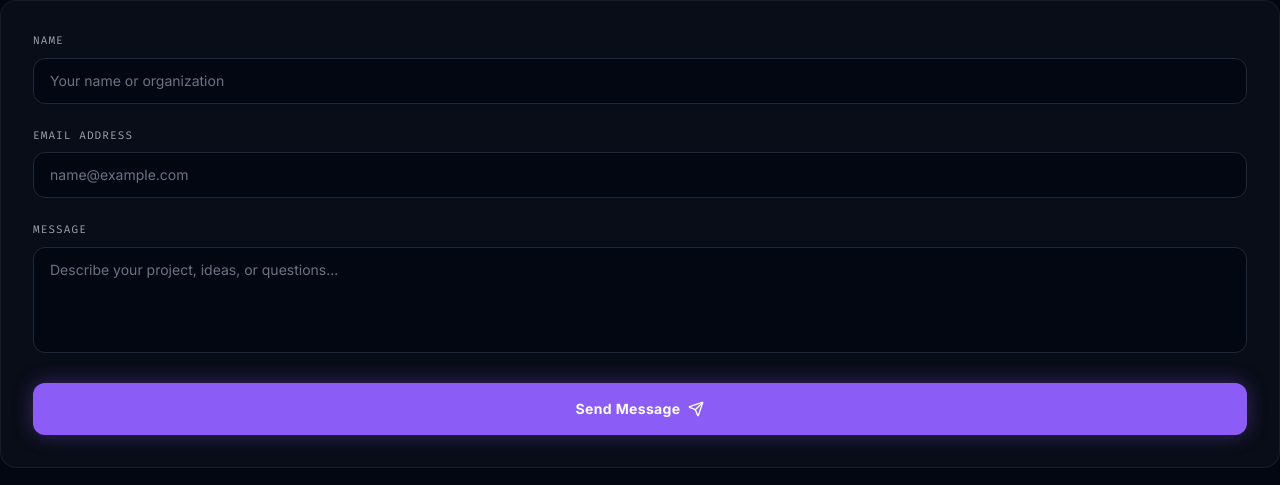
Test: ContactForm component › submits the form successfully and displays success confirmation panel
In the field labelled "Name": (640, 80) [33,58,1247,104], type "Astronaut John"
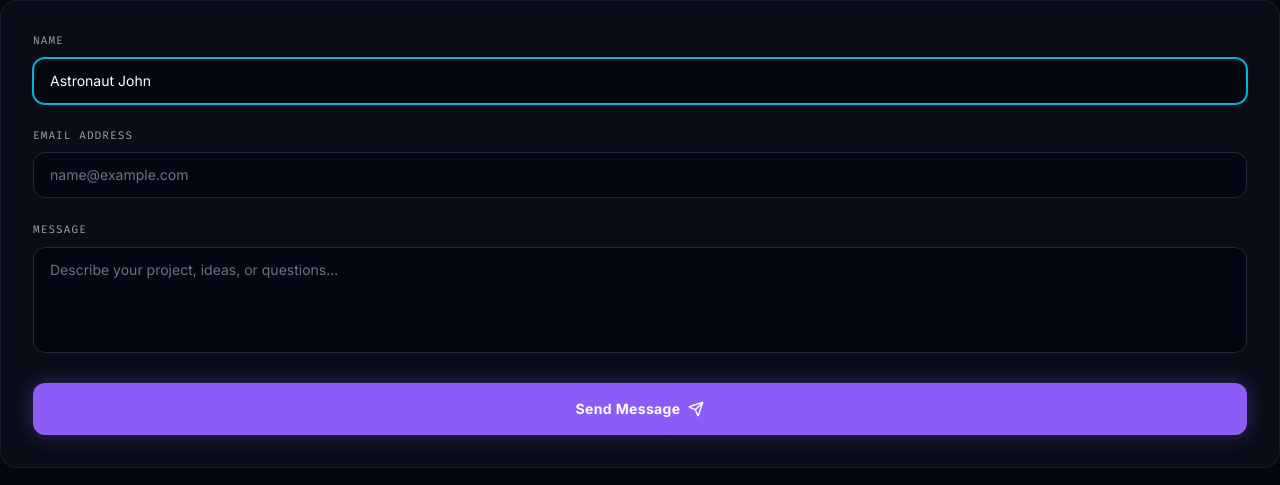
In the field labelled "Email Address": (640, 175) [33,152,1247,198], type "john@cosmos.dev"
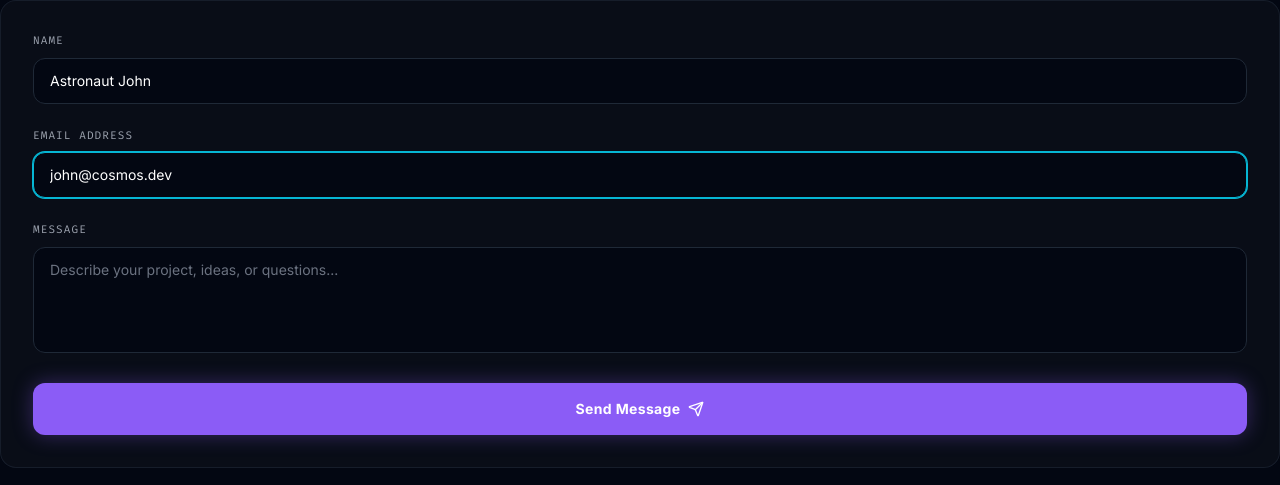
In the text box labelled "Message": (640, 300) [33,246,1247,352], type "Requesting orbital trajectory coordinates for rendezvous."
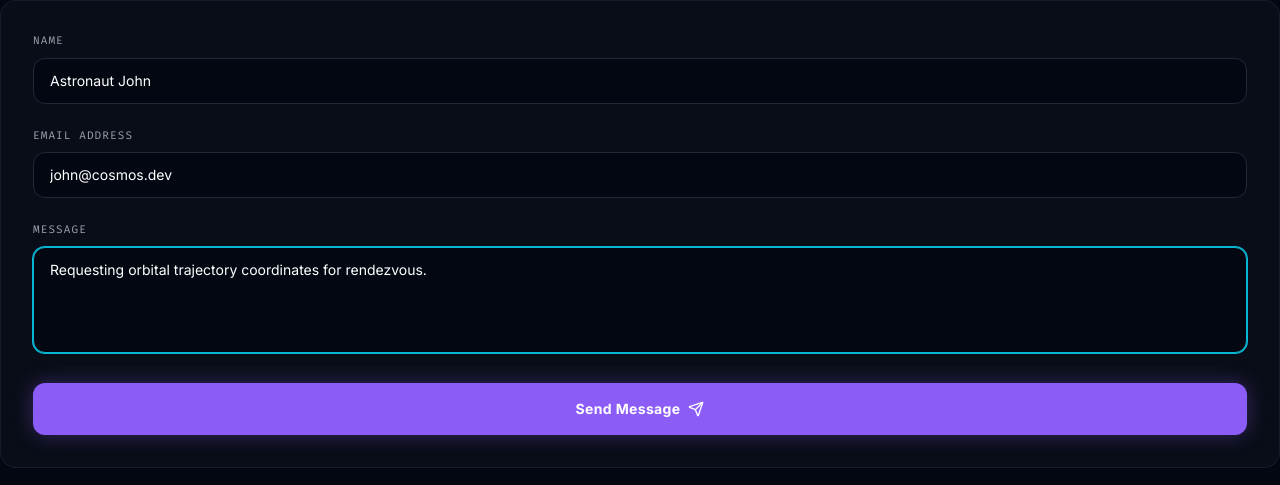
Submit the form "Name Email Address Message Send Message"
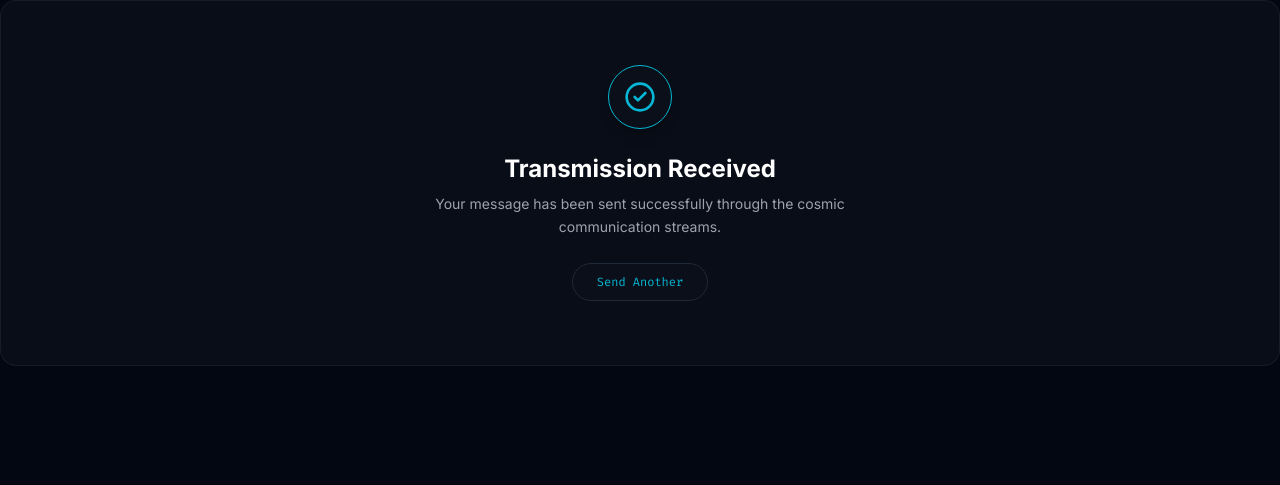
Expected: the heading "Transmission Received" is shown, [504,154,776,183]
Expected: the text "sent successfully through the cosmic communication streams" is shown, [435,195,845,235]
